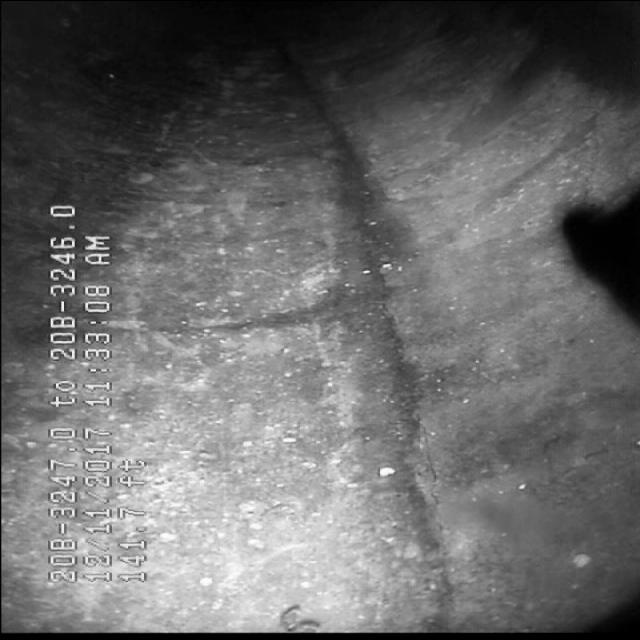Crack: (268, 98, 458, 577)
